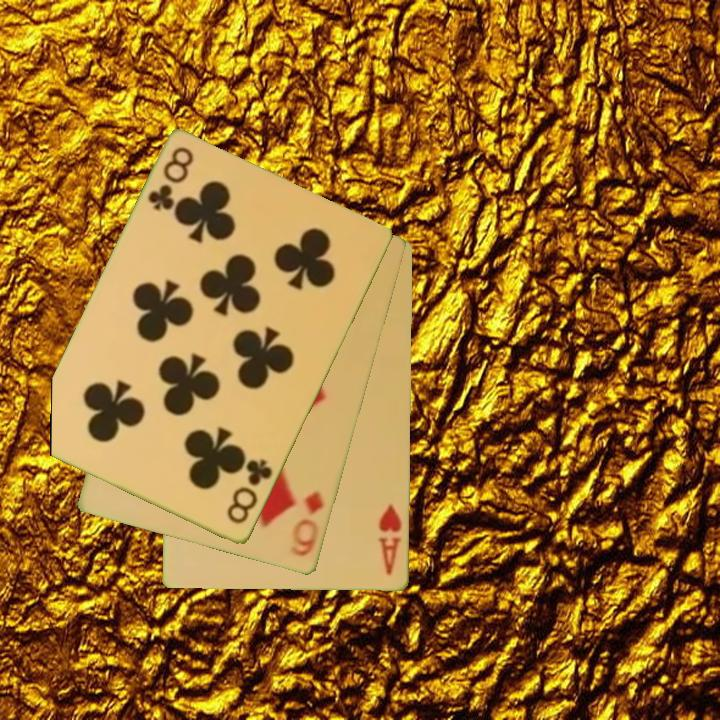6d: (287, 488, 327, 560)
8c: (223, 456, 276, 528), (144, 144, 197, 214)
Ah: (375, 502, 405, 578)
